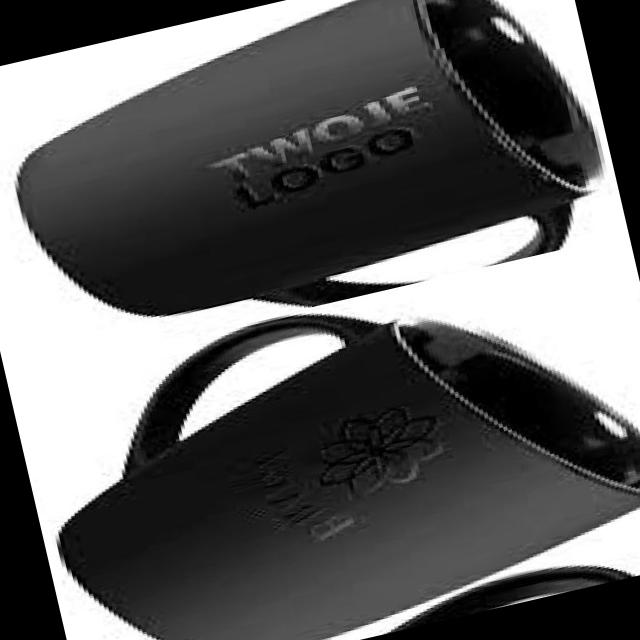Coffee Mug: (18, 239, 640, 640), (0, 0, 621, 364)
